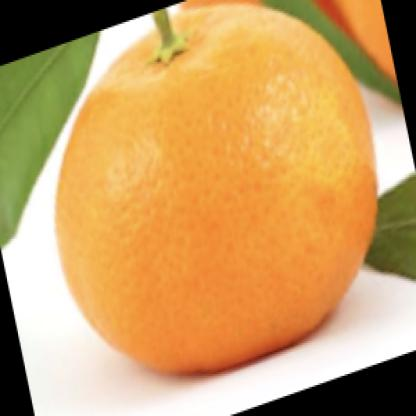fresh: (58, 6, 376, 376)
